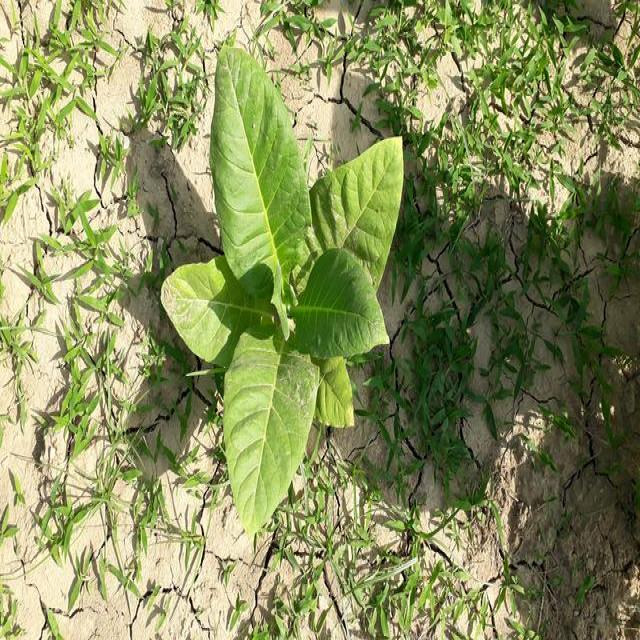crop: (162, 47, 410, 527)
